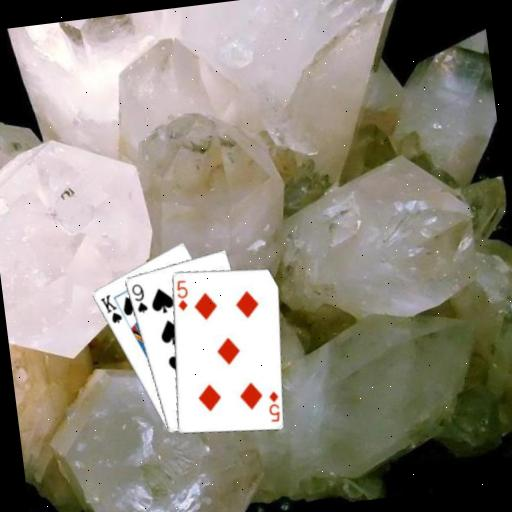5D: (171, 276, 191, 313), (263, 387, 283, 424)
9S: (127, 280, 149, 316)
KS: (96, 290, 124, 327)
